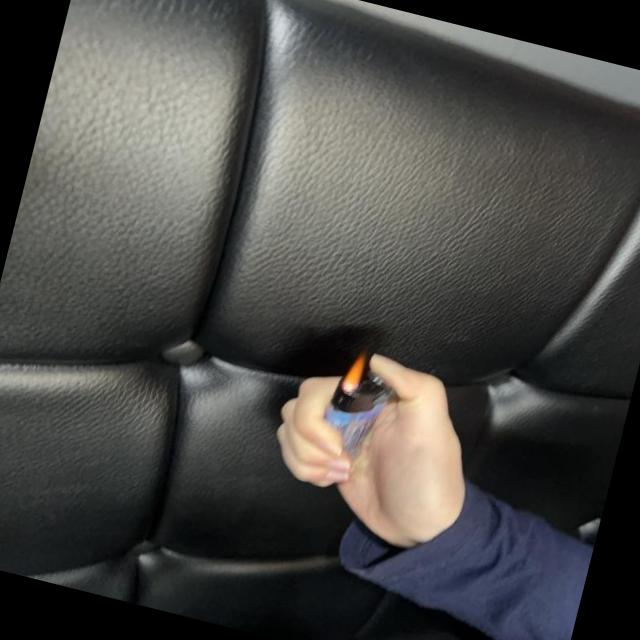Fire: (342, 357, 367, 395)
